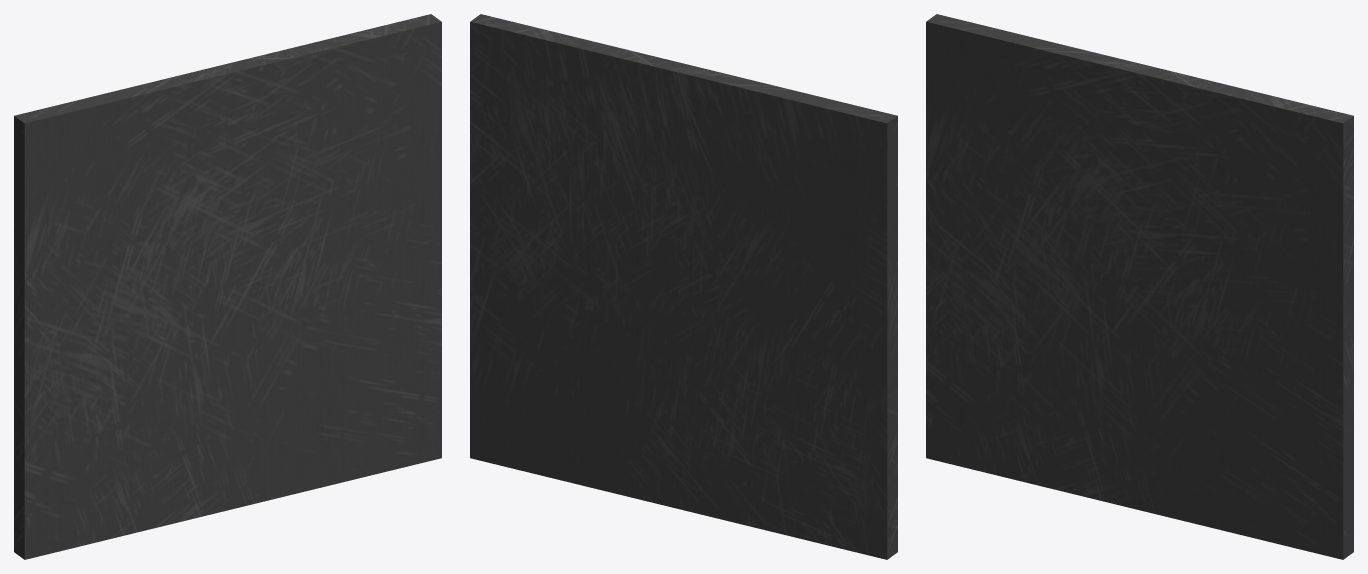
The model's file is WallLvl1T2.fbx.
The picture shows the model from 3 angles, left to right: view 1: azimuth 30°, elevation 25°; view 2: azimuth 150°, elevation 25°; view 3: azimuth 330°, elevation 25°; orthographic projection.
Visible parts, largest first — view 1: Wall1; view 2: Wall1; view 3: Wall1.
Part boxes in pixels (box(x1,y1,x2,y2)): Wall1: box(14, 14, 441, 559); Wall1: box(470, 14, 897, 559); Wall1: box(926, 14, 1353, 559).
Size of the model in its own units: 1 by 1 by 0.0439.
